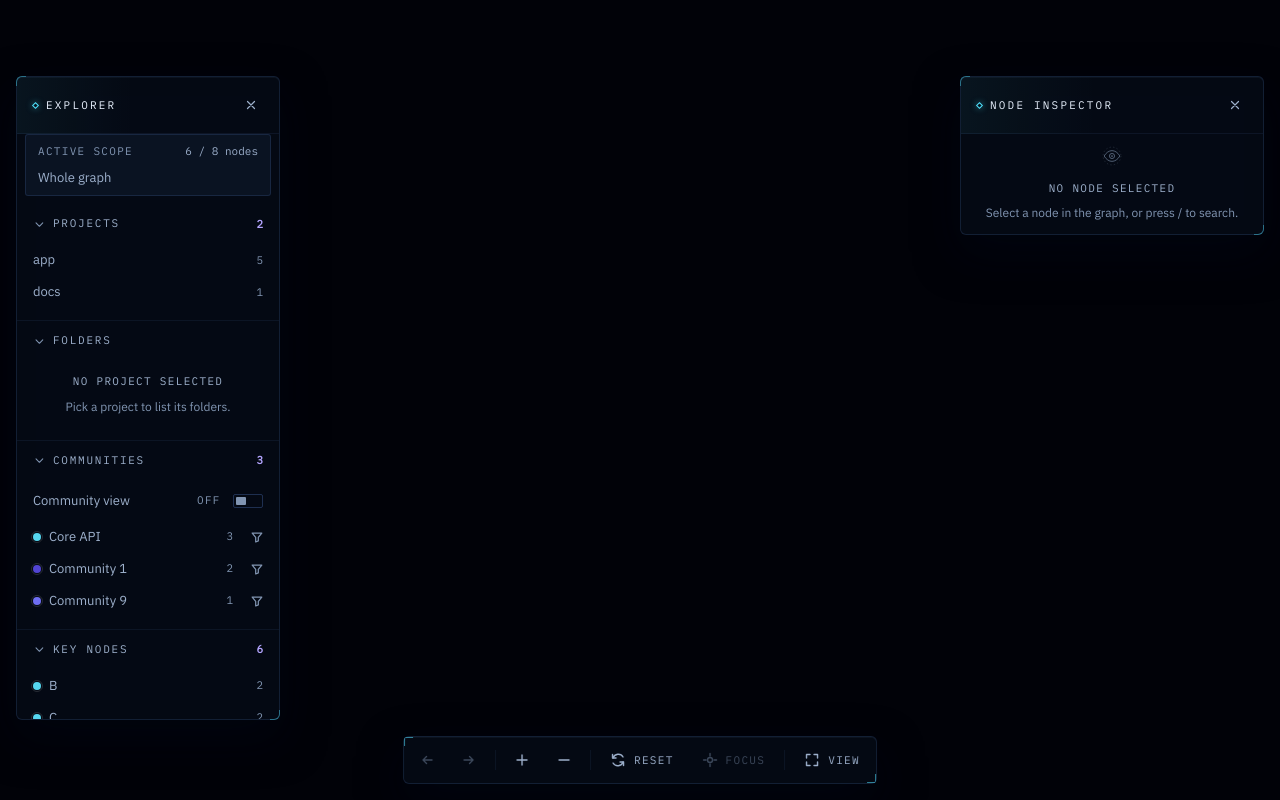
Test: communities in the interface › community → nodes: a key node enters the community and expands it
Click the switch labelled "Community view OFF" at (148, 500), box [25,480,271,520]
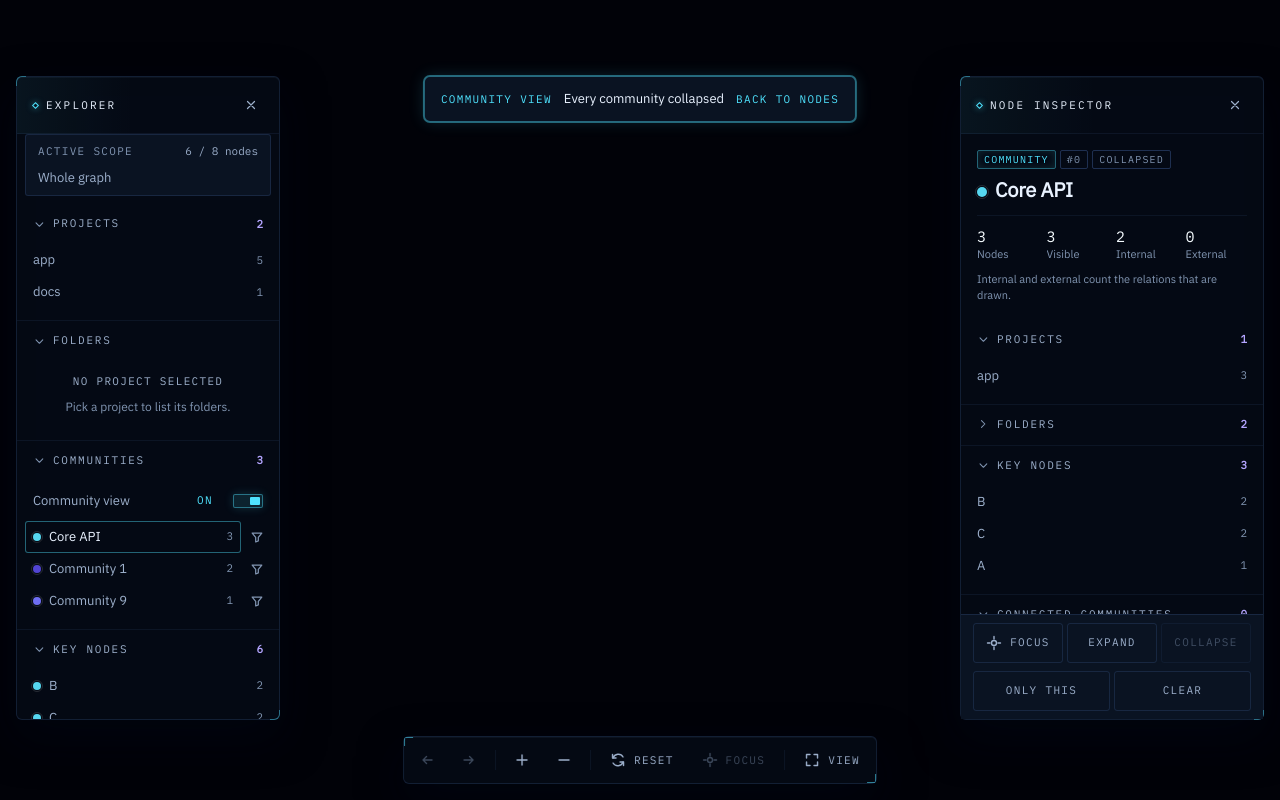
Click the button named "Enter the community at B" at (981, 501), box [969,486,1255,518]
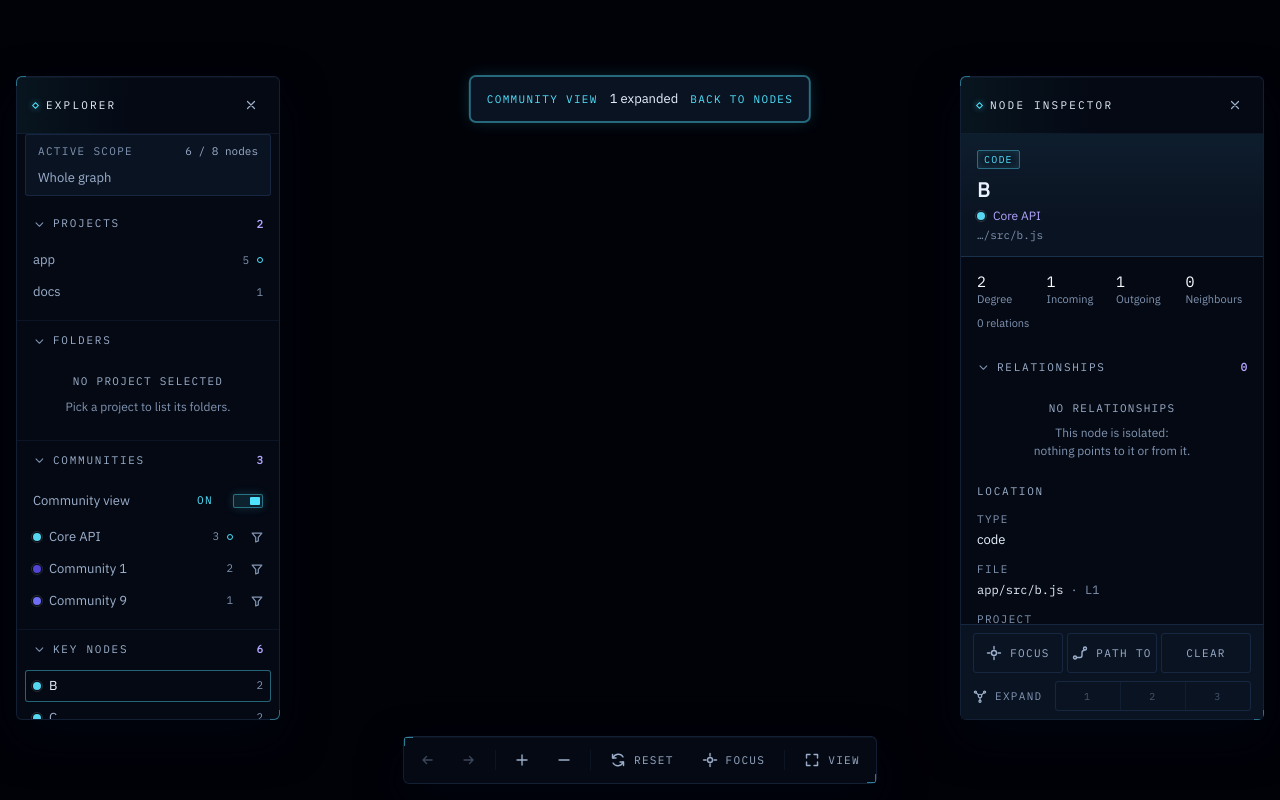
Expected: the text "B" below "Node inspector" is shown, [977,176,990,203]
